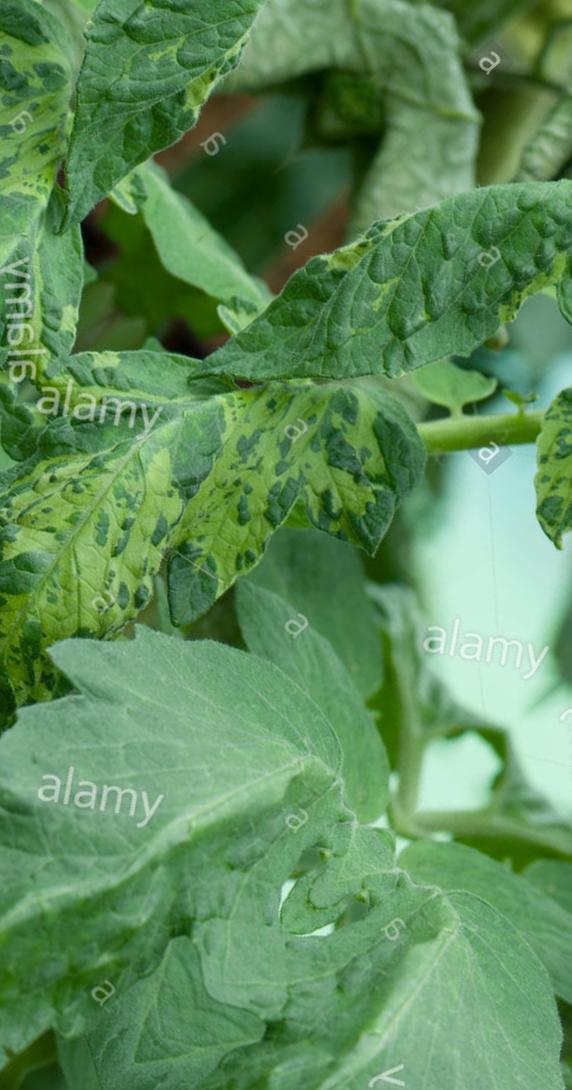Tomato leaf mosaic virus: (0, 176, 481, 850), (0, 518, 435, 1090), (176, 8, 572, 592), (446, 324, 572, 594)
